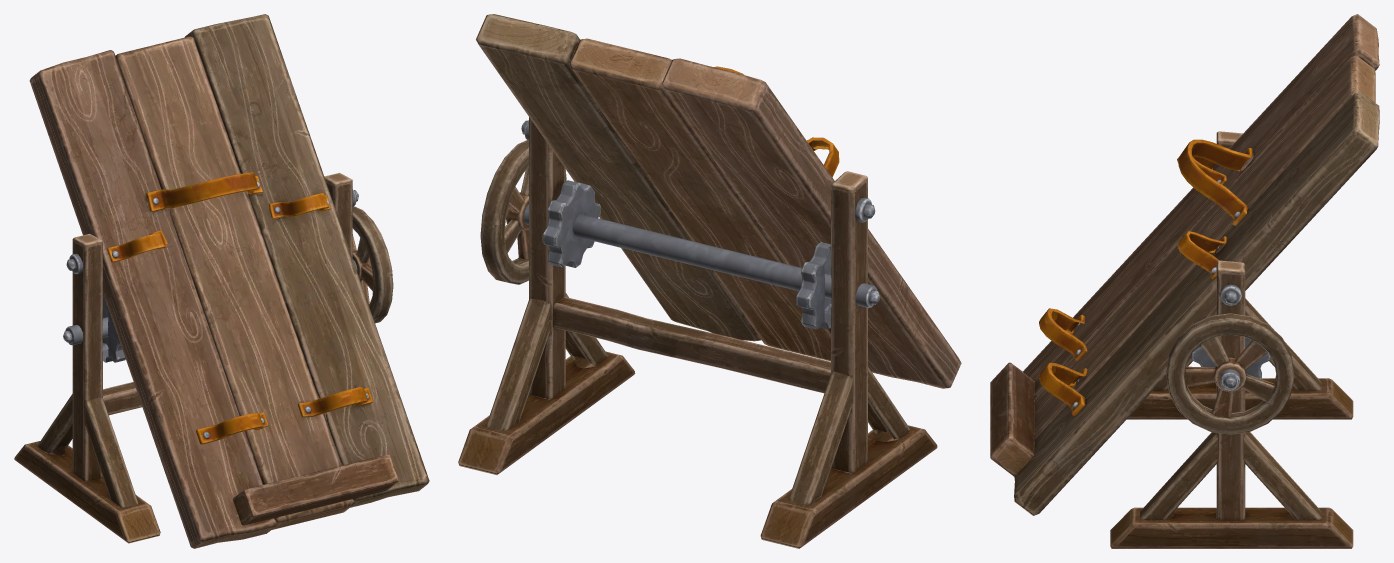
3 renders of one model, left to right at view 1: azimuth 30°, elevation 25°; view 2: azimuth 150°, elevation 25°; view 3: azimuth 270°, elevation 25°, orthographic. The views are drawn at different scales.
Parts seen in each view (by area): view 1: SM_Examination_Table_LOD0; view 2: SM_Examination_Table_LOD0; view 3: SM_Examination_Table_LOD0.
Boxes of the visible parts, x1=… form: SM_Examination_Table_LOD0: x1=14, y1=14, x2=429, y2=548; SM_Examination_Table_LOD0: x1=458, y1=14, x2=961, y2=548; SM_Examination_Table_LOD0: x1=990, y1=14, x2=1379, y2=548.
Bounding box in the file's own units: 1.41 × 1.65 × 1.43.
Materials: 1 (1 with a texture image).
